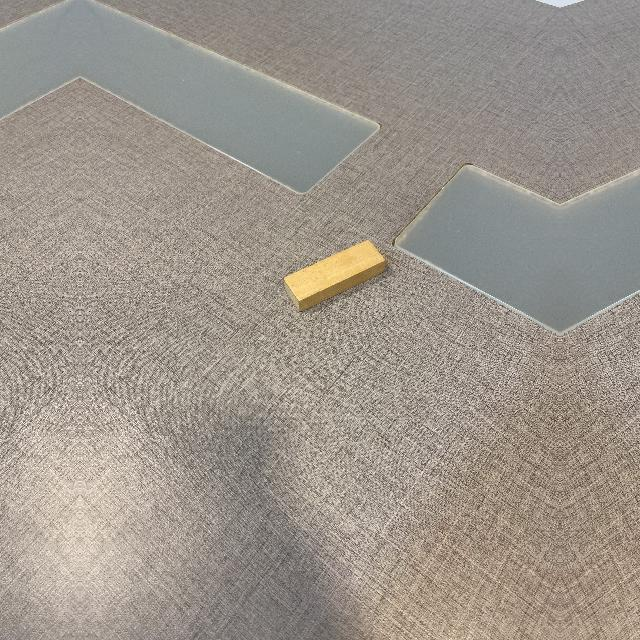jenga: (284, 243, 388, 313)
